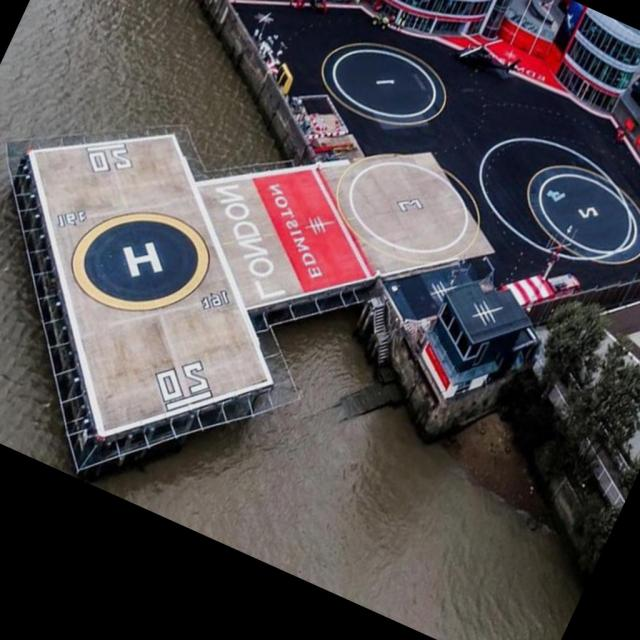helipad: (66, 206, 213, 314)
